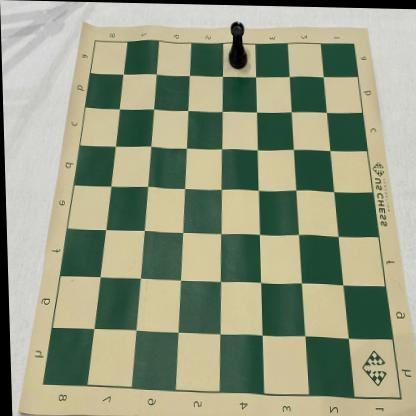black-rook: (227, 20, 247, 68)
